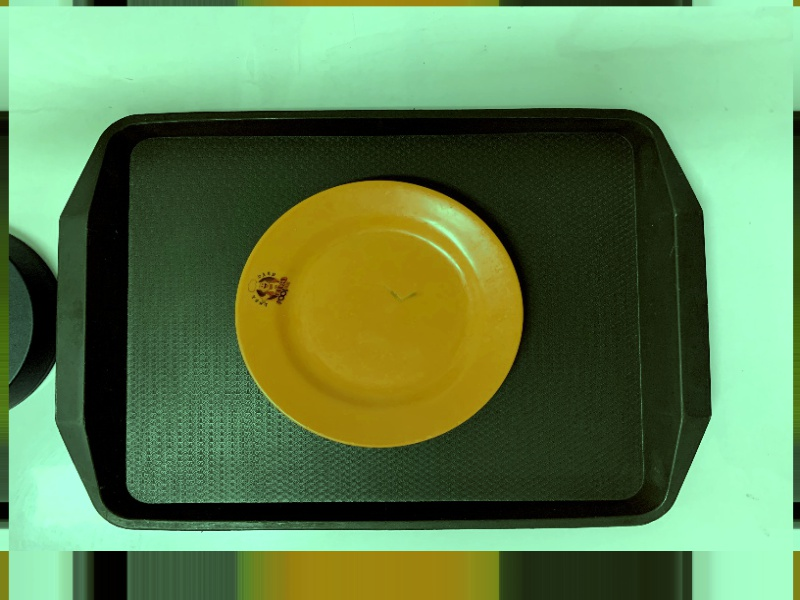dish10: (230, 176, 528, 452)
